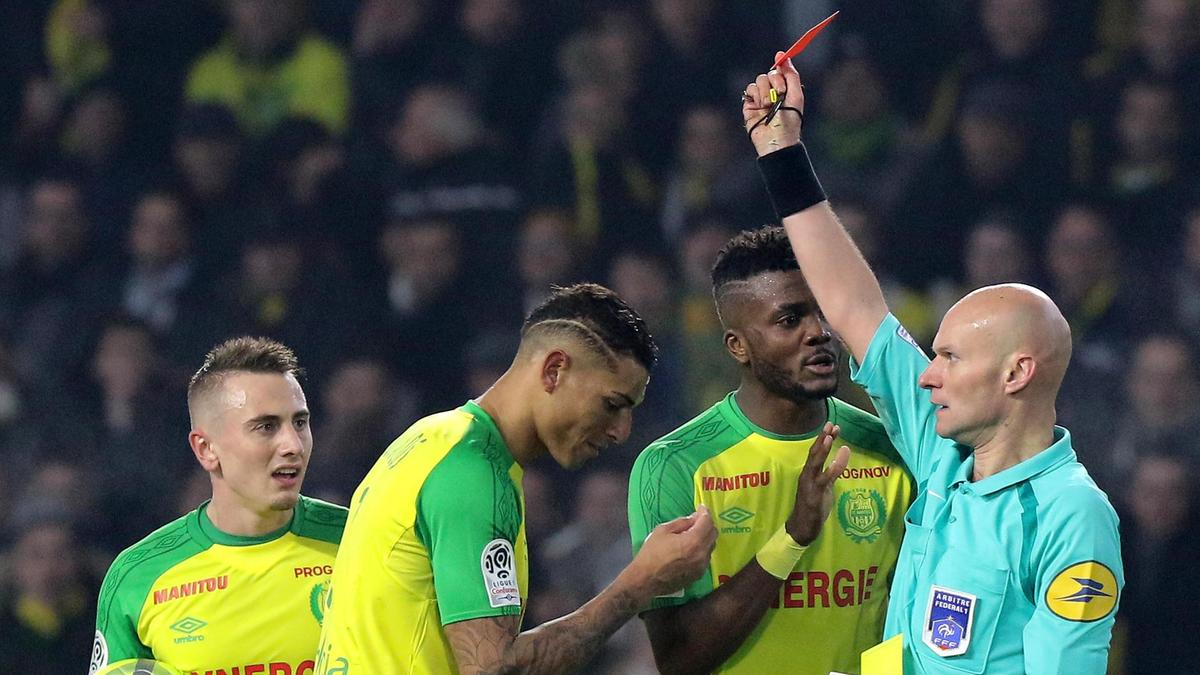red_card: (727, 5, 845, 148)
